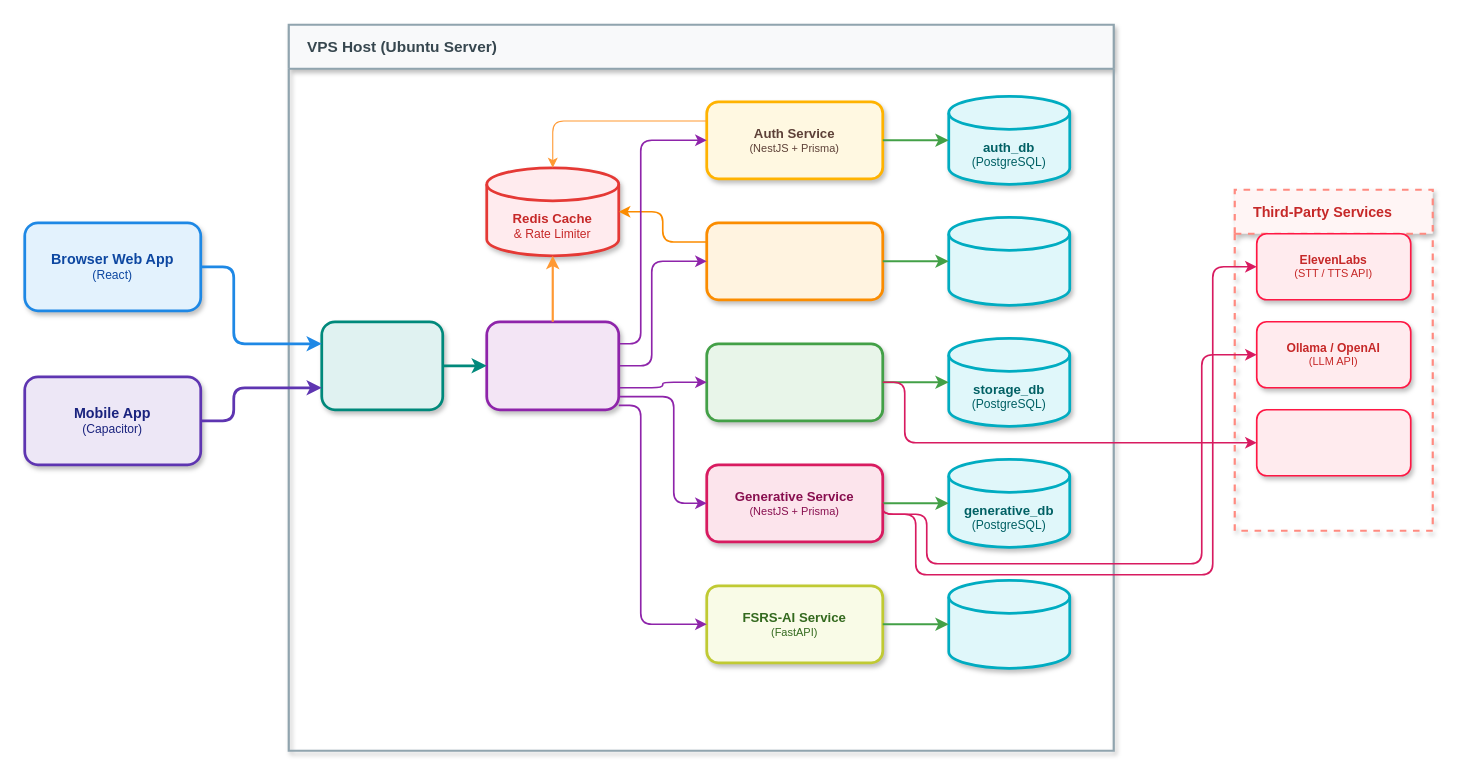
Image size: 1460x778. Some labels were removed from this diagram. Each missing label, with the centre of its shape:
"API Gateway (NestJS)" belongs at [553,366].
"Cloudinary (CDN / Media API)" belongs at [1334,444].
"fsrs_db (PostgreSQL)" belongs at [1009,625].
"Learn Service (NestJS + Prisma)" belongs at [795,262].
"learn_db (PostgreSQL)" belongs at [1009,262].
"Nginx Reverse Proxy" belongs at [382,366].
"Storage Service (NestJS + Prisma)" belongs at [795,383].
